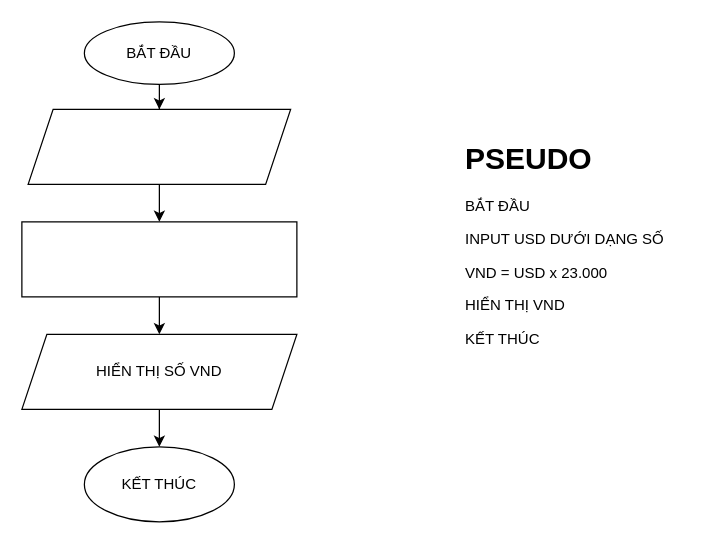
This 719x544 diagram has some shape labels left out. The box of each missing label's shape, as (x1, y1, x2, y2) in pixels:
NHẬP SỐ USD CẦN CHUYỂN: (27, 108, 291, 184)
VND = SỐ USD x 23.000: (21, 221, 297, 297)
